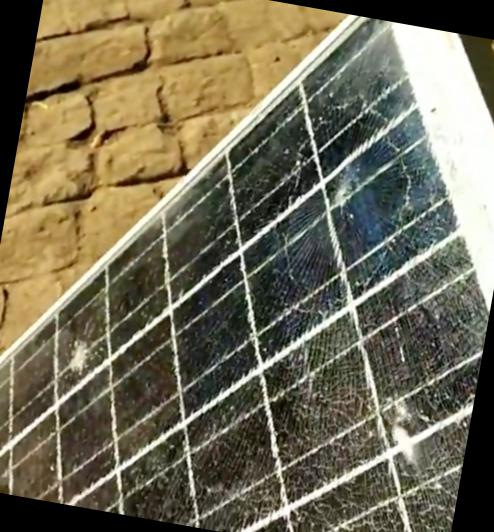Crack: (269, 90, 493, 393), (318, 381, 473, 531), (61, 337, 109, 383)
